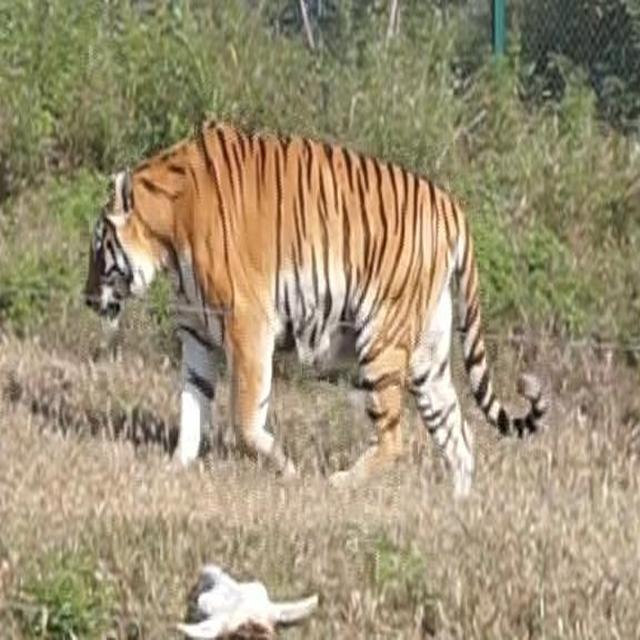tiger: (73, 69, 556, 519)
